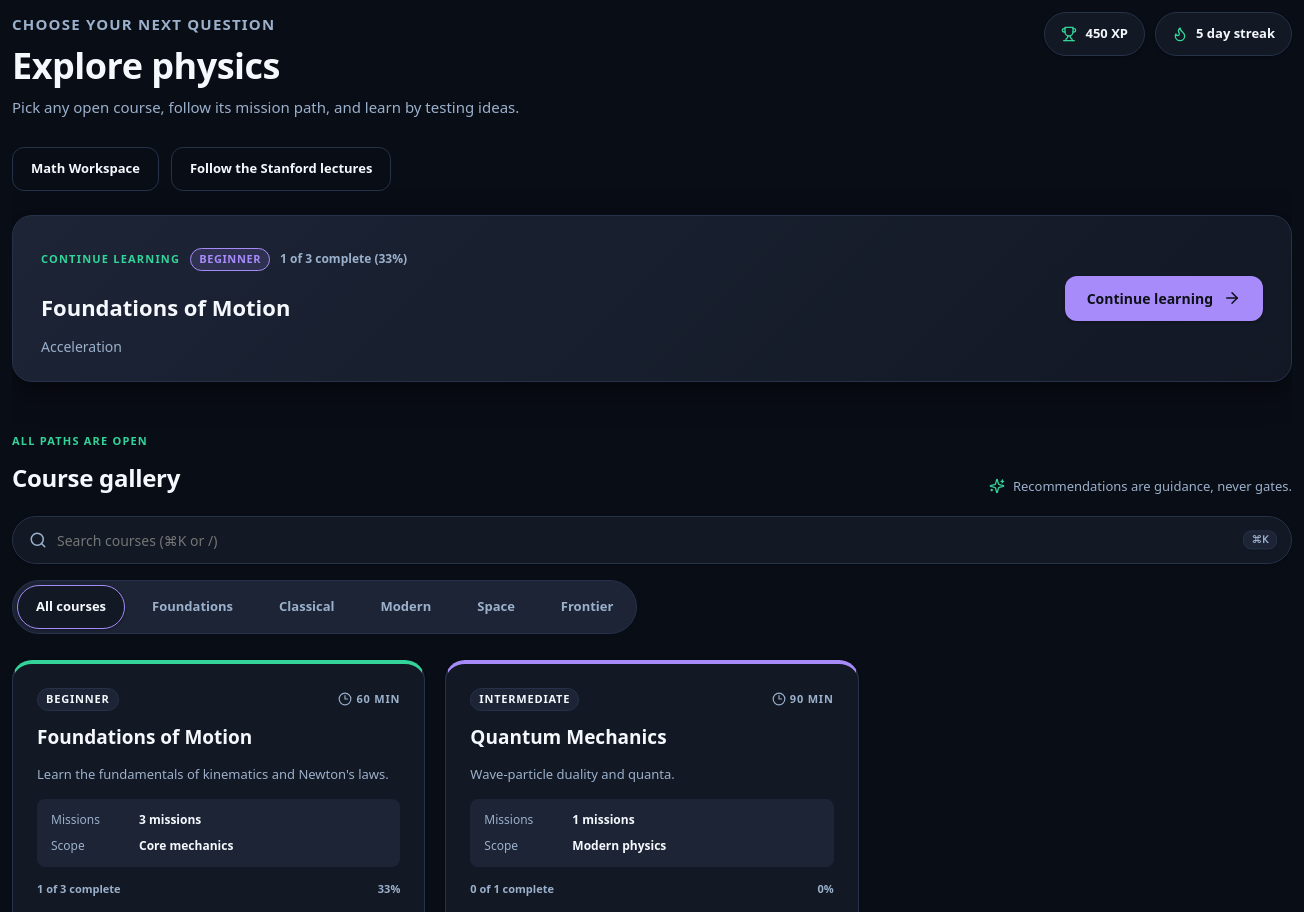
Test: ExplorePage (Apple Design) › shows clear button when query is entered and clears input on click
This screenshot has width=1304, height=912.
Type "Quantum" into the search field labelled "Search courses (⌘K or /)" at (652, 540), box [13, 517, 1291, 563]
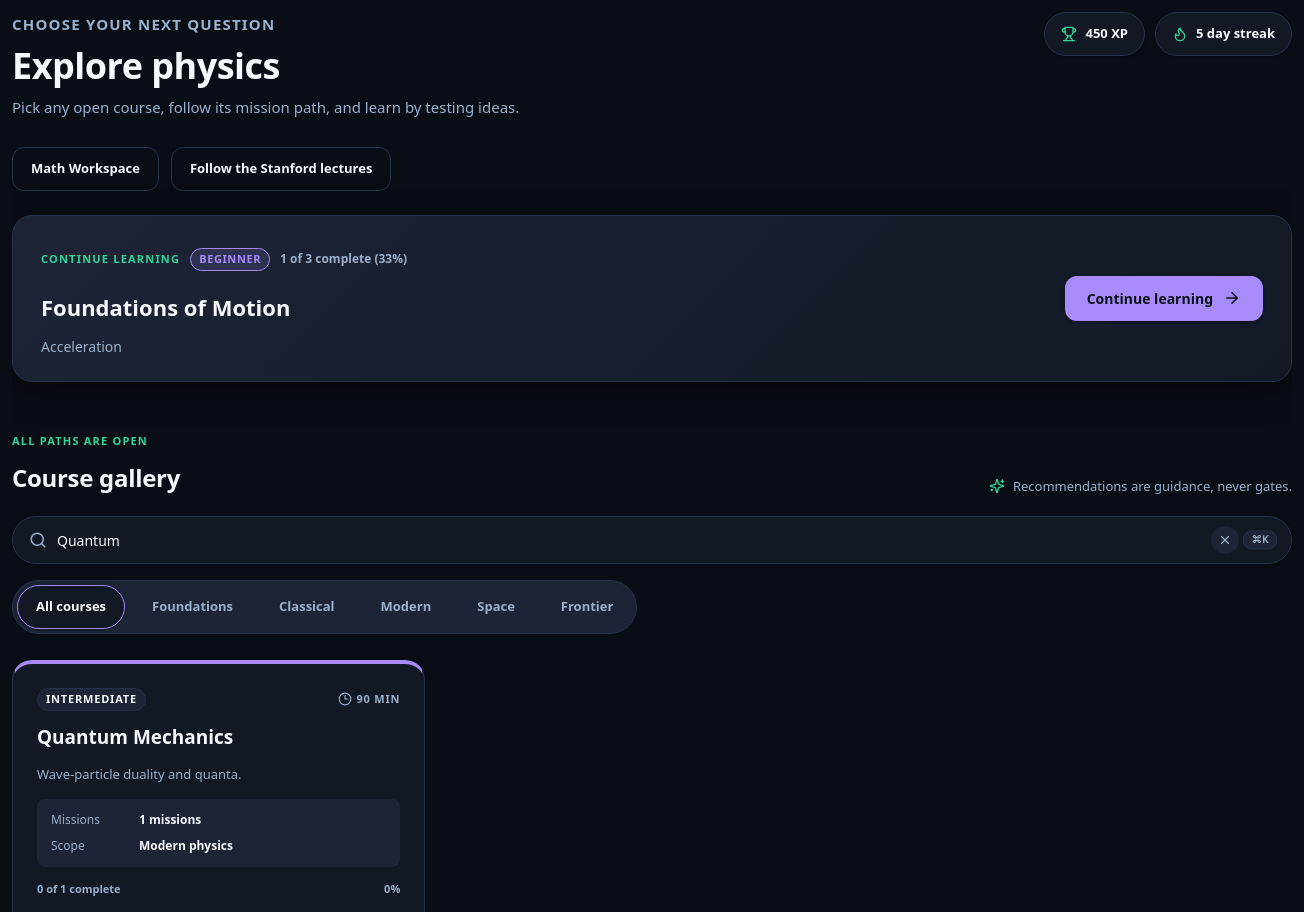
Check: the button with class "search-clear-btn" is shown
Click the button with class "search-clear-btn" at (1225, 540), box [1211, 526, 1239, 554]
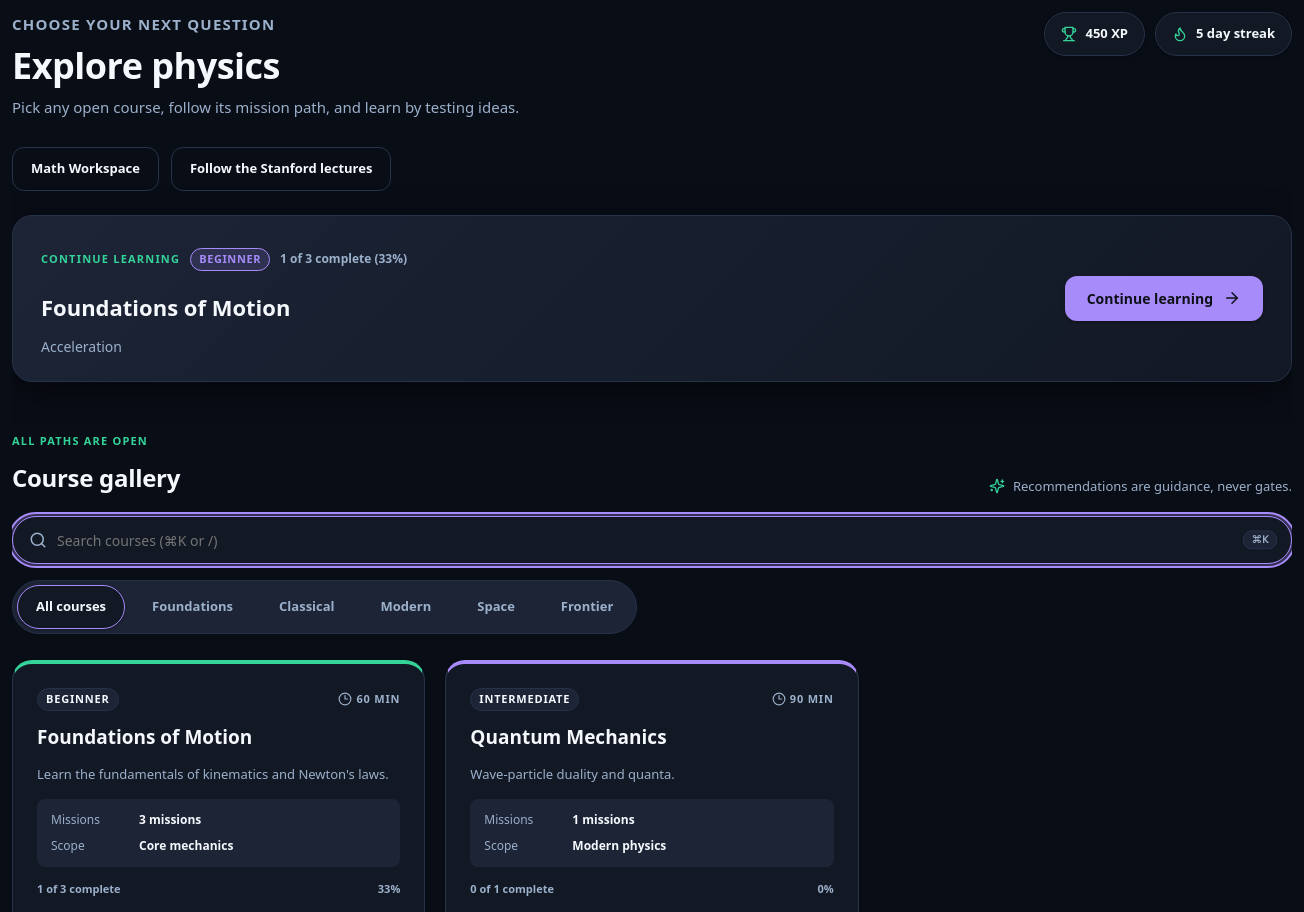
Check: the search field labelled "Search courses (⌘K or /)" is empty, box [13, 517, 1291, 563]
Check: the button with class "search-clear-btn" is gone
